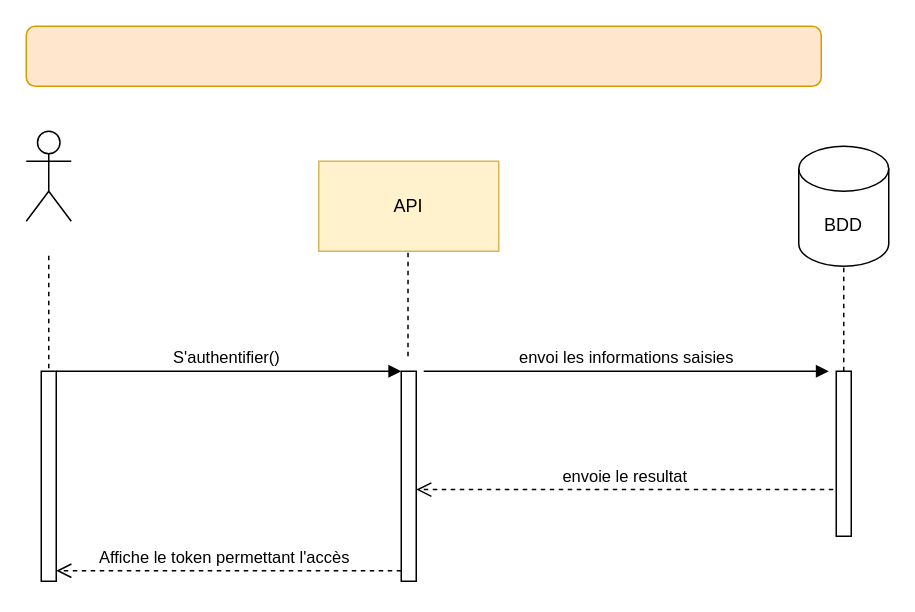
Image size: 915x612. Some labels were removed from this diagram. Here are the shapes that lost their labels. From the top down, the box of each, then its label:
(25, 25, 821, 86): Diagramme de Séquence
(25, 130, 71, 221): client
